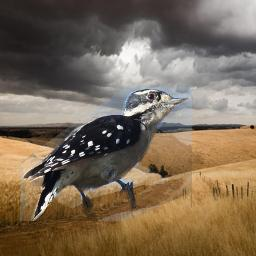Woodpecker: (20, 87, 192, 221)
